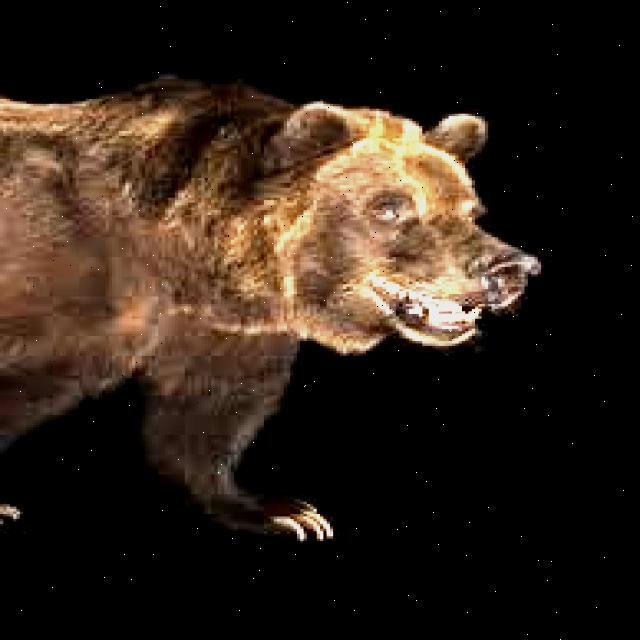bear: (5, 72, 565, 537)
